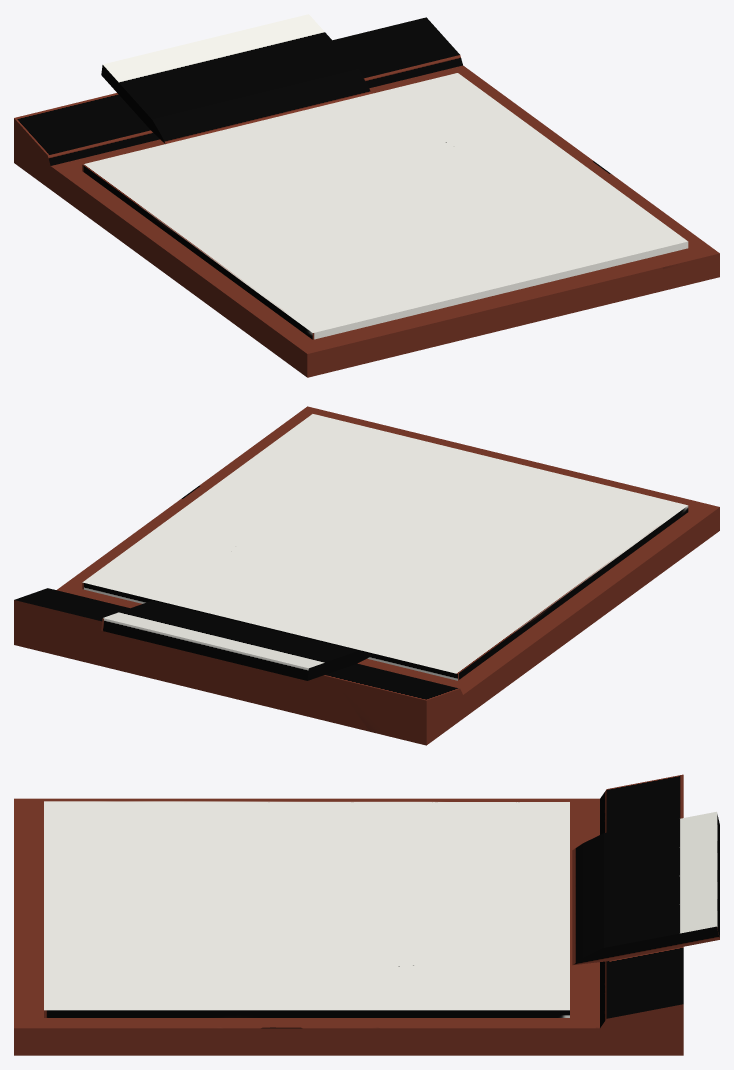
The model's file is Clipboard 1.fbx.
The picture shows the model from 3 angles, top to bottom: view 1: azimuth 30°, elevation 25°; view 2: azimuth 150°, elevation 25°; view 3: azimuth 270°, elevation 25°; orthographic projection. The views are drawn at different scales.
Parts seen in each view (by area): view 1: Plane; view 2: Plane; view 3: Plane.
Part boxes in pixels (<box>): Plane: <box>14,14,719,377</box>; Plane: <box>14,406,719,745</box>; Plane: <box>14,774,719,1055</box>.
Bounding box in the file's own units: 195 × 28.28 × 253.
